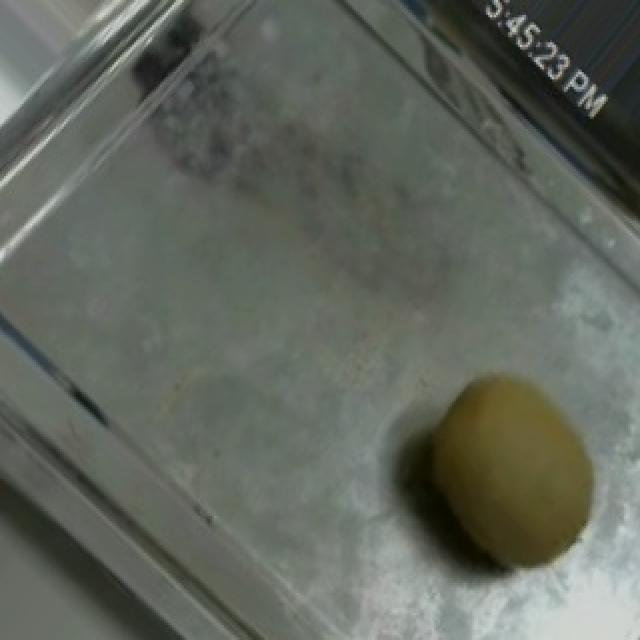Fruit: (386, 350, 636, 603)
